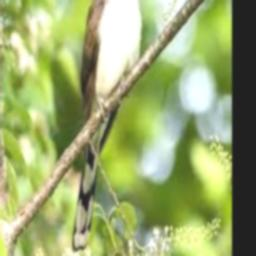Cuckoo: (71, 0, 152, 251)
